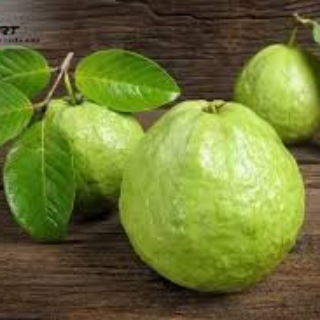oi: (114, 99, 306, 297)
